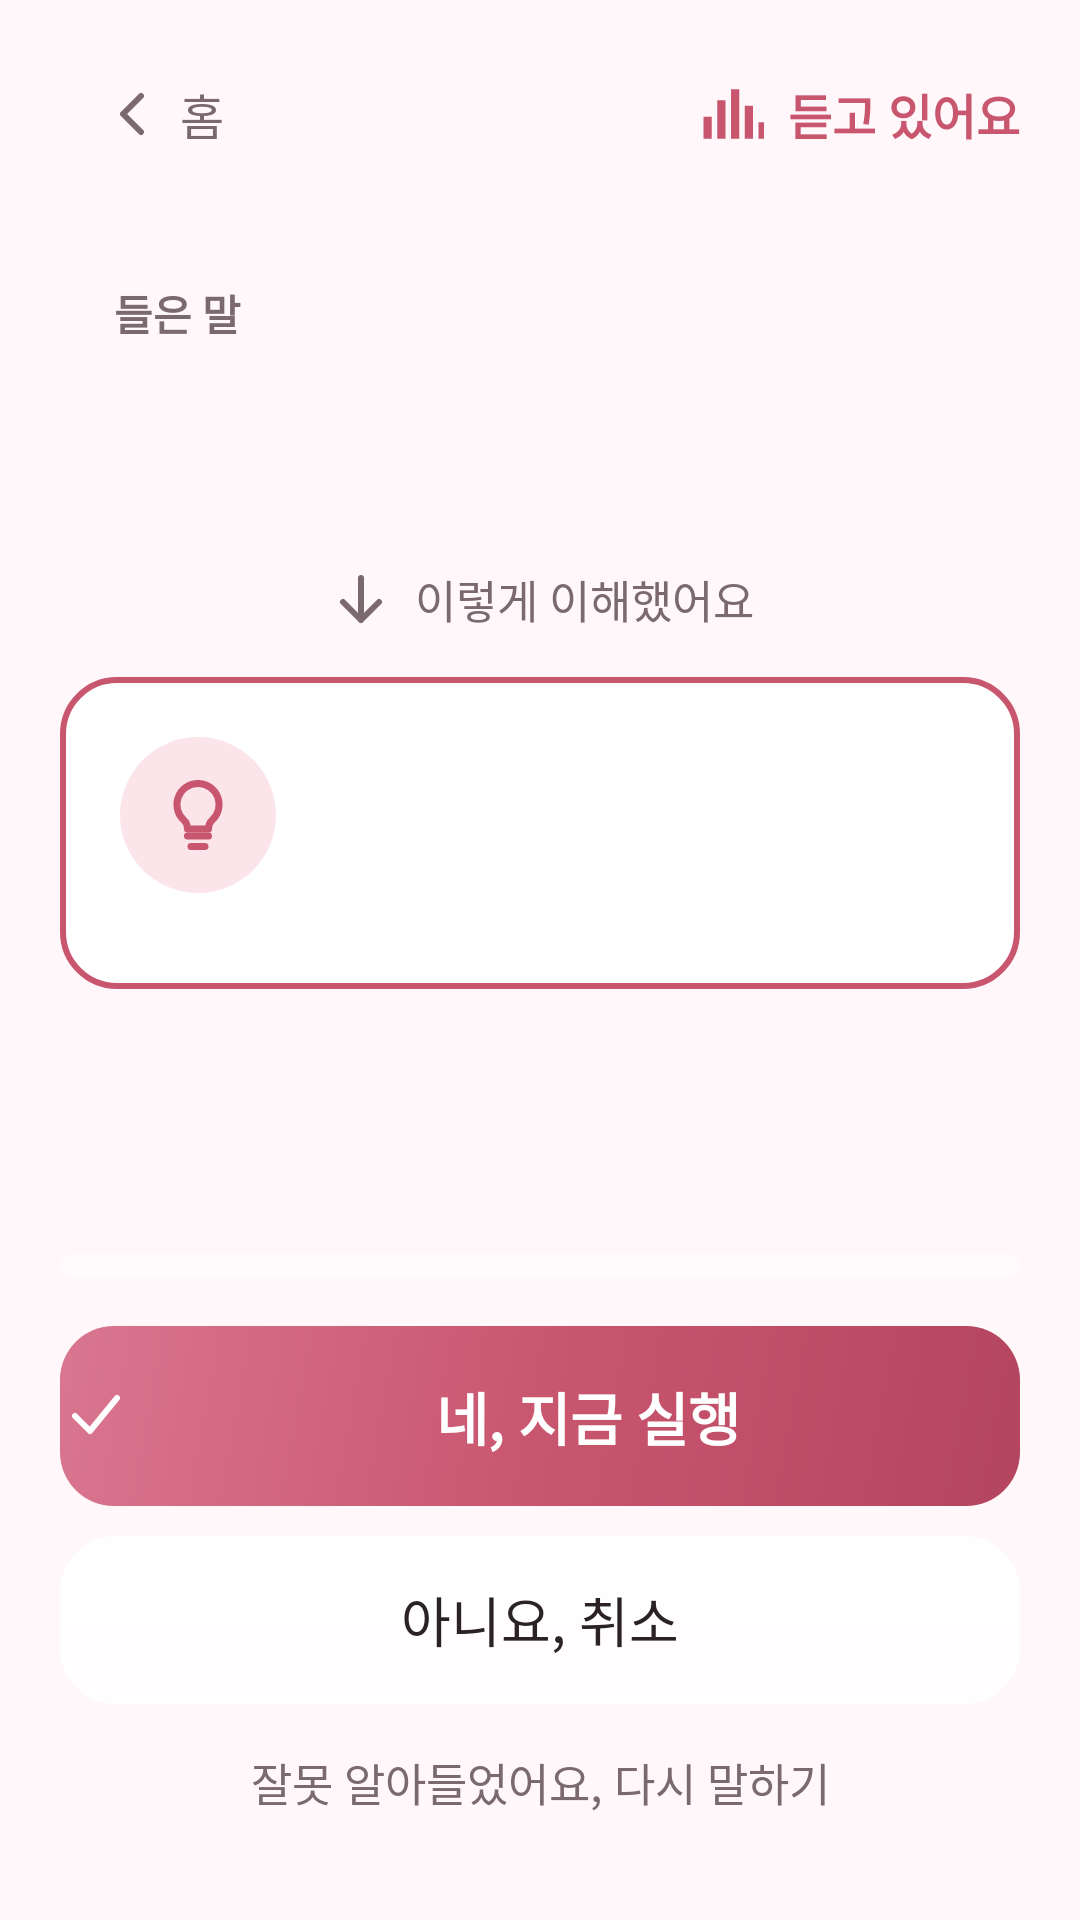

Icon bounding boxes for this 1080w x 1920h phone screenshot, format detection(x1, y1, x2, y2):
bulb: detection(120, 737, 276, 893)
